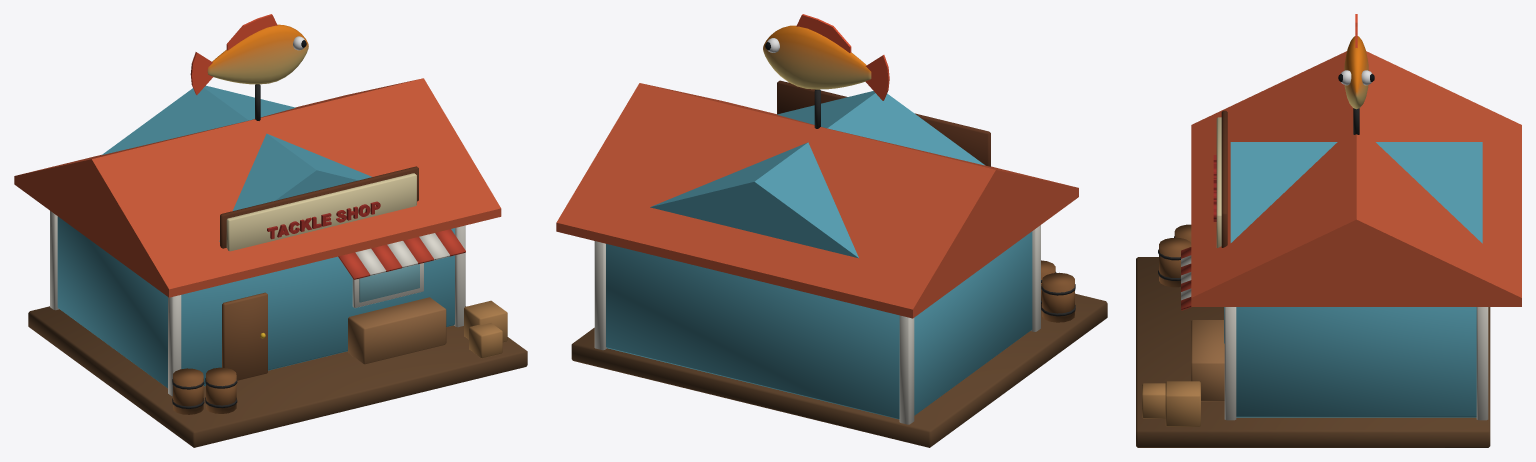
Rendered from shop.glb.
3 views of the same model, side by side, from view 1: azimuth 30°, elevation 25°; view 2: azimuth 150°, elevation 25°; view 3: azimuth 270°, elevation 25° (orthographic). The views are drawn at different scales.
Visible parts, largest first — view 1: Shop, BigFish; view 2: Shop, BigFish; view 3: Shop, BigFish.
Part boxes in pixels (x1,y1,x2,y2): Shop: (14, 78, 527, 447); BigFish: (190, 14, 308, 94); Shop: (556, 80, 1107, 447); BigFish: (763, 14, 889, 100); Shop: (1136, 51, 1521, 447); BigFish: (1338, 14, 1374, 109).
Size of the model in its own units: 10.5 by 9.42 by 9.8.
